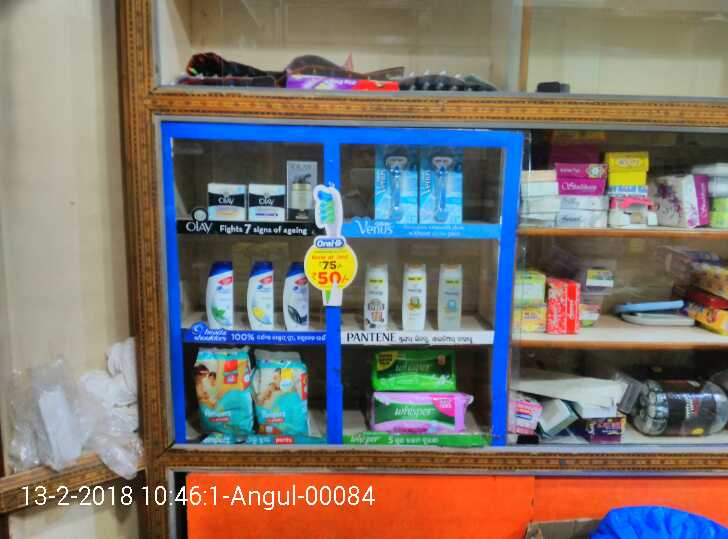venus: (422, 143, 462, 224), (377, 149, 417, 221)
